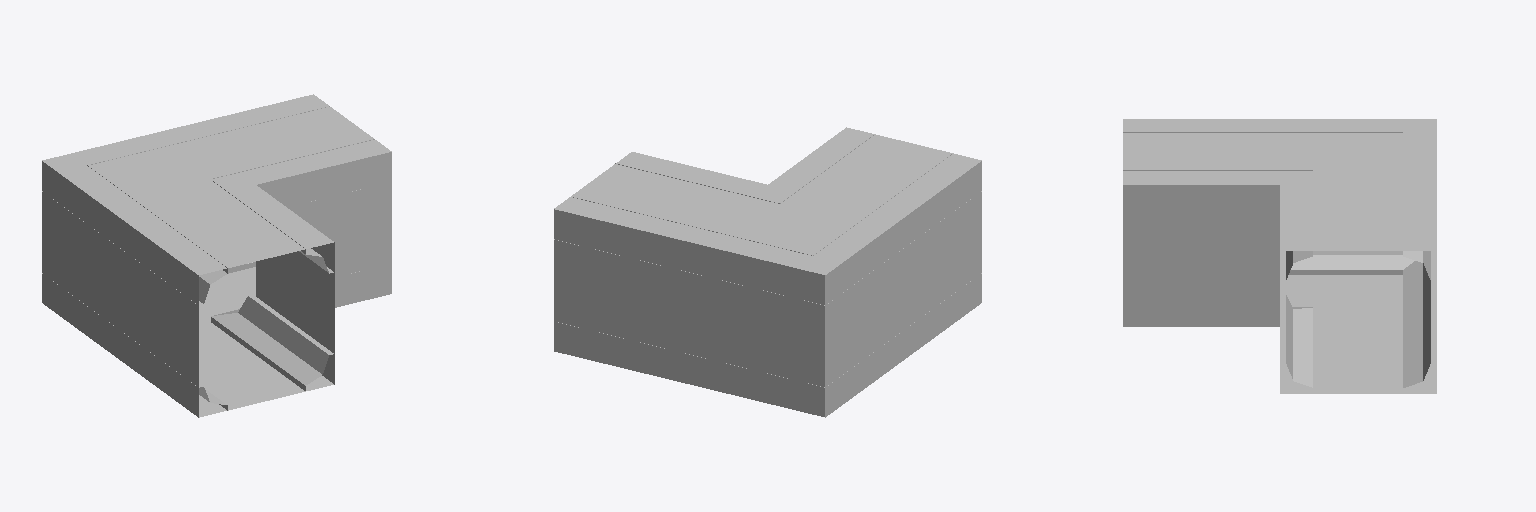
File: turn_right_test2.obj
3 views of the same model, side by side, from view 1: azimuth 30°, elevation 25°; view 2: azimuth 150°, elevation 25°; view 3: azimuth 270°, elevation 25° (orthographic).
Size of the model in its own units: 4 by 2.01 by 4.